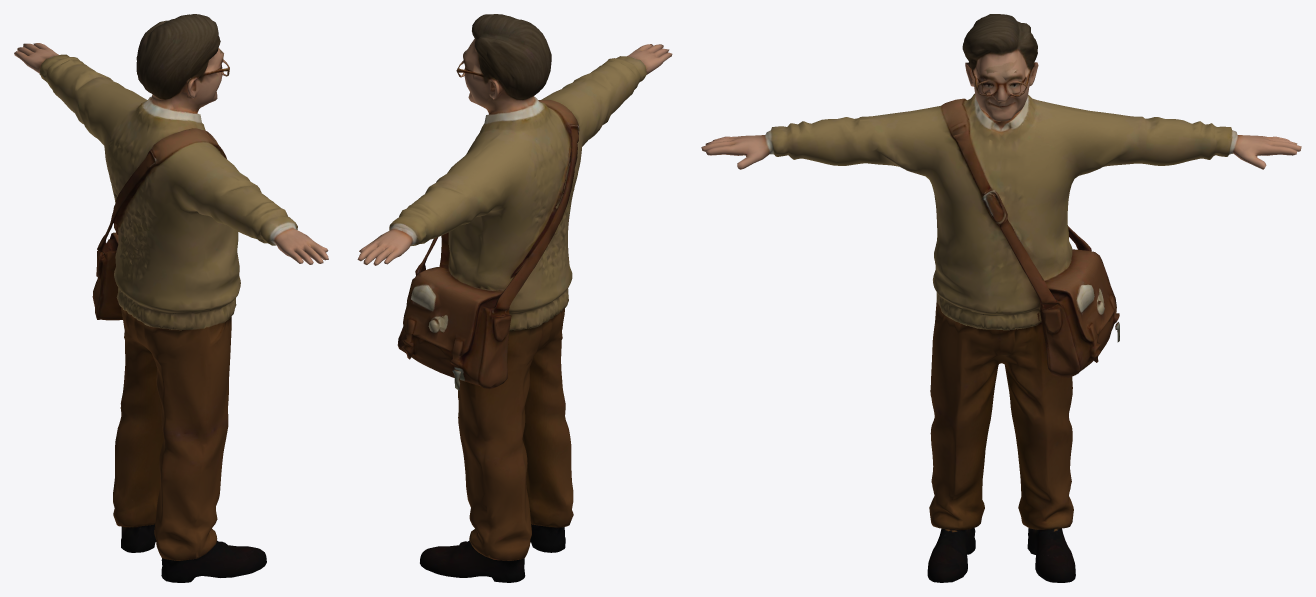
The model's file is The+Proffesor.fbx.
The picture shows the model from 3 angles, left to right: view 1: azimuth 30°, elevation 25°; view 2: azimuth 150°, elevation 25°; view 3: azimuth 270°, elevation 25°; orthographic projection.
Visible parts, largest first — view 1: tripo_node_d8210aeb; view 2: tripo_node_d8210aeb; view 3: tripo_node_d8210aeb.
Boxes of the visible parts, x1=… form: tripo_node_d8210aeb: x1=14, y1=14, x2=328, y2=582; tripo_node_d8210aeb: x1=357, y1=14, x2=672, y2=582; tripo_node_d8210aeb: x1=701, y1=14, x2=1301, y2=582.
Bounding box in the file's own units: 25.37 × 99.95 × 100.
1 material, 1 textured.
